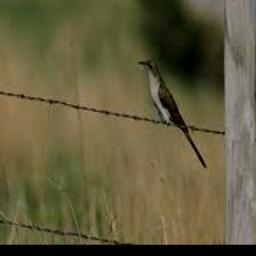Cuckoo: (137, 58, 206, 169)
